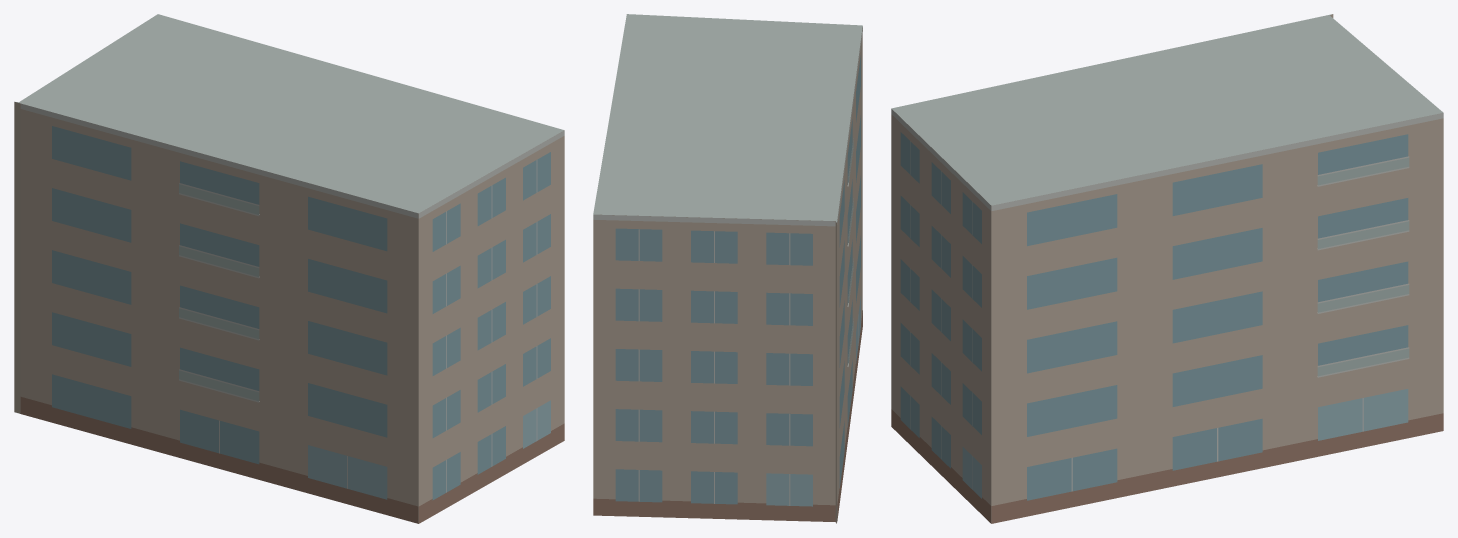
File: survey-upis-32974239.glb
3 views of the same model, side by side, from view 1: azimuth 30°, elevation 25°; view 2: azimuth 150°, elevation 25°; view 3: azimuth 270°, elevation 25° (orthographic). The views are drawn at different scales.
Parts seen in each view (by area): view 1: survey-upis-32974239.tmp; view 2: survey-upis-32974239.tmp; view 3: survey-upis-32974239.tmp.
Boxes of the visible parts, box(x1,y1,x2,y2) form: survey-upis-32974239.tmp: box(14, 14, 564, 523); survey-upis-32974239.tmp: box(593, 14, 862, 523); survey-upis-32974239.tmp: box(891, 14, 1443, 523).
Bounding box in the file's own units: 18.1 × 14 × 22.04.
